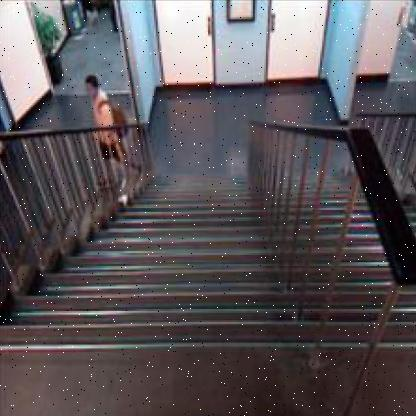stair_down: (38, 256, 270, 382)
